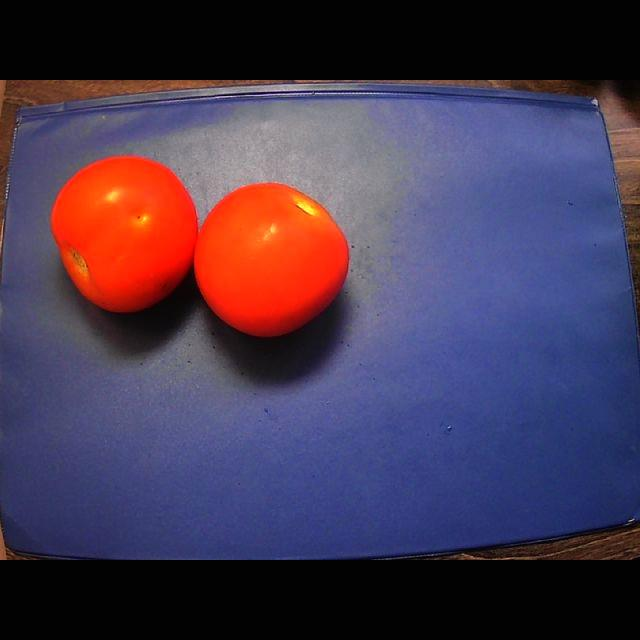tomate: (195, 183, 348, 336), (51, 156, 196, 312)
